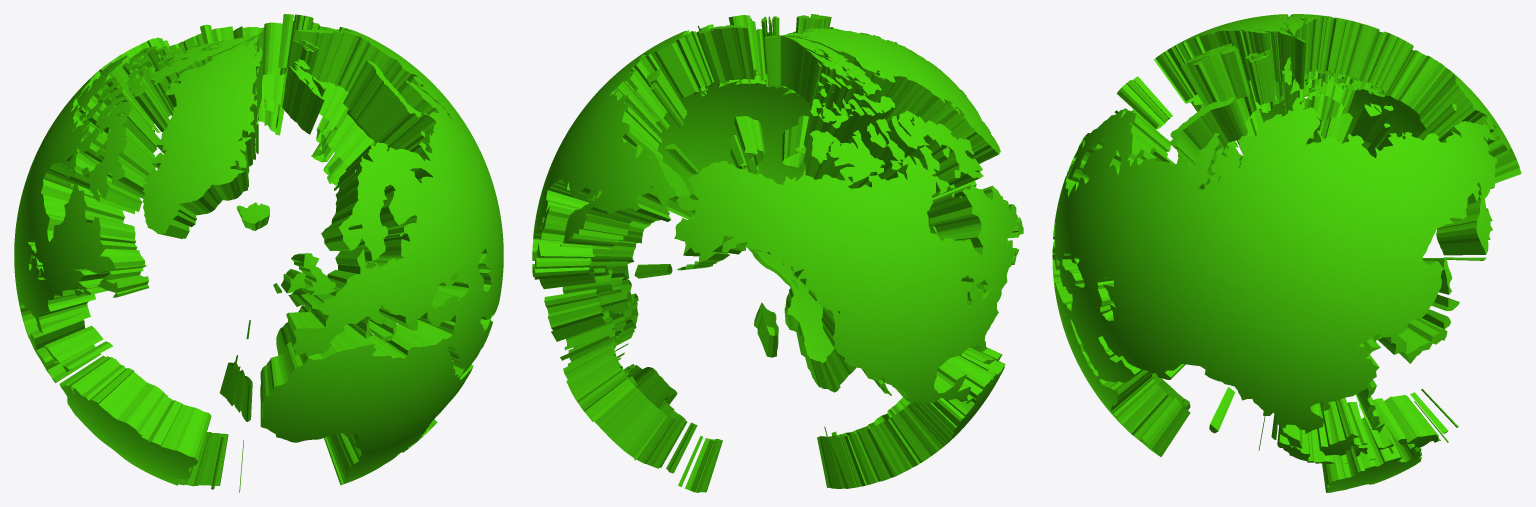
File: earth.glb
3 renders of one model, left to right at view 1: azimuth 30°, elevation 25°; view 2: azimuth 150°, elevation 25°; view 3: azimuth 270°, elevation 25°, orthographic. The views are drawn at different scales.
Visible parts, largest first — view 1: World.002; view 2: World.002; view 3: World.002.
Boxes of the visible parts, x1,y1,x2,y2 form: World.002: [14, 14, 503, 492]; World.002: [532, 14, 1023, 492]; World.002: [1052, 14, 1521, 492].
Size of the model in its own units: 0.9814 by 0.9674 by 0.95.
